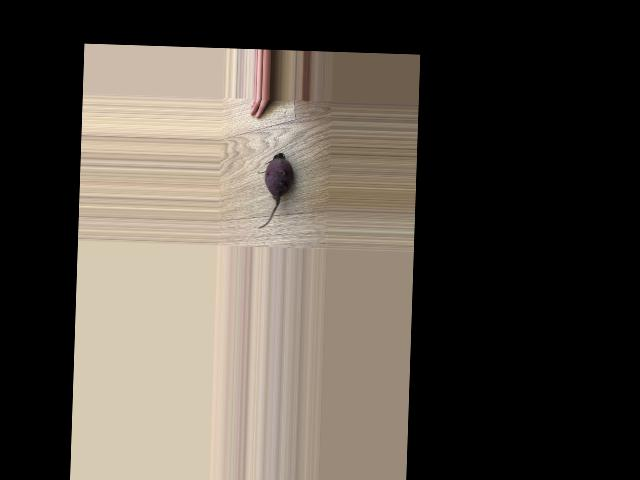beet: (256, 153, 293, 230)
